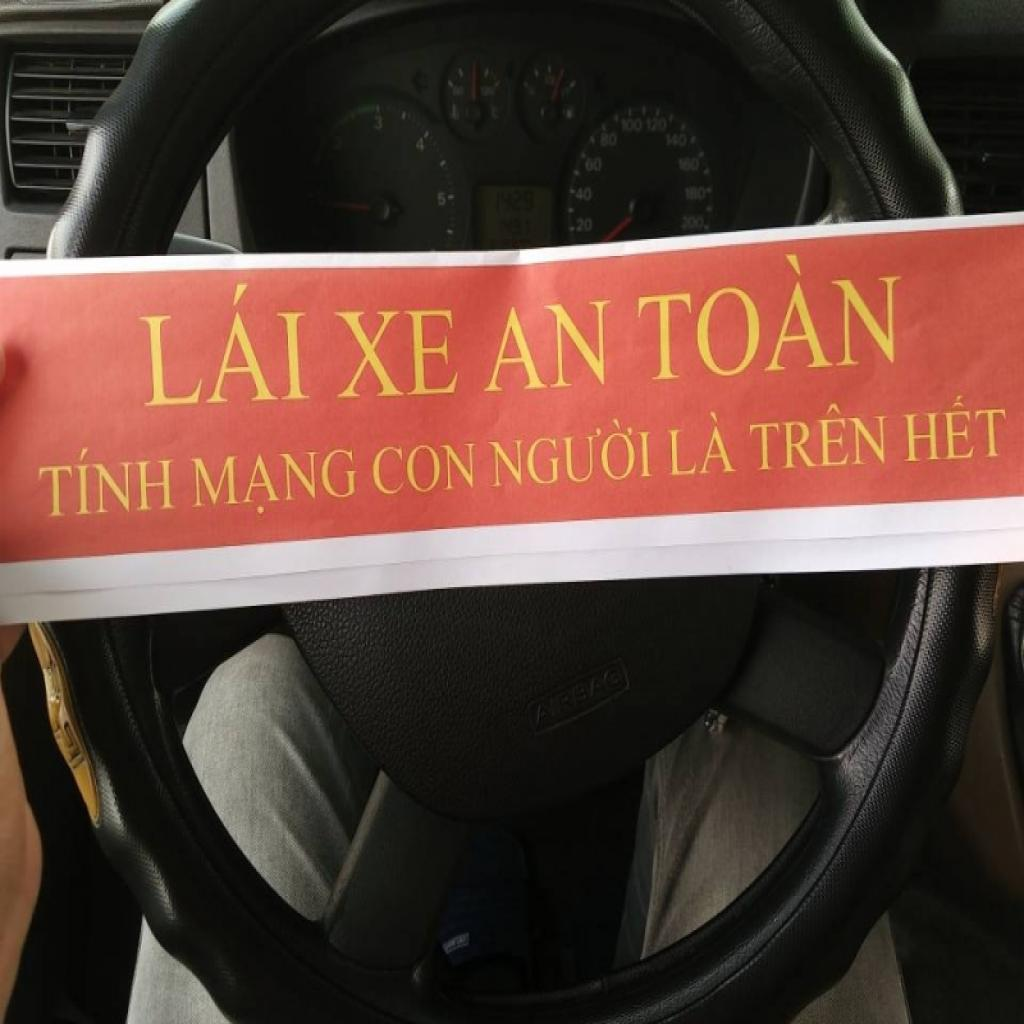text: (635, 244, 901, 386), (136, 278, 312, 411), (480, 298, 614, 398), (190, 446, 357, 526), (486, 414, 654, 492), (332, 307, 464, 403), (36, 442, 176, 521), (746, 398, 890, 474), (902, 387, 1010, 466), (370, 438, 479, 502), (666, 408, 740, 479), (681, 213, 708, 234), (620, 116, 645, 138), (646, 114, 670, 135), (677, 155, 702, 174), (600, 130, 621, 152), (682, 186, 708, 203), (585, 154, 605, 176), (575, 216, 595, 236), (664, 133, 689, 149), (413, 135, 429, 159), (576, 186, 594, 207), (372, 112, 386, 134), (436, 188, 448, 210)
